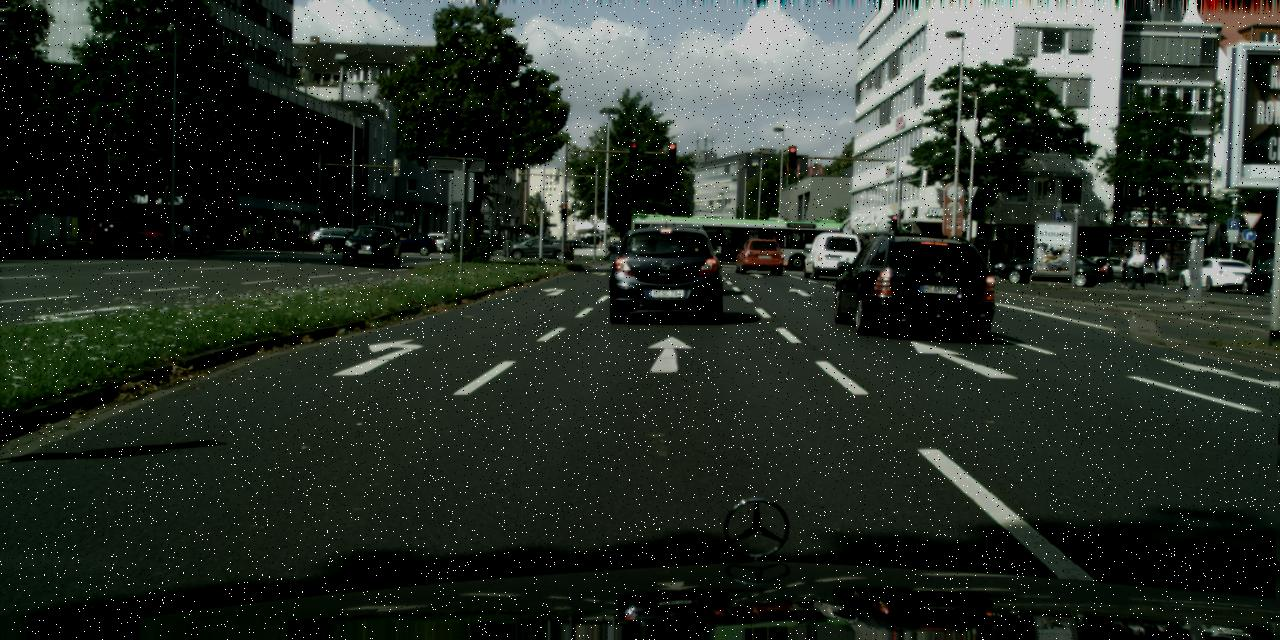ped: (1128, 249, 1144, 288), (198, 219, 211, 252), (1118, 255, 1130, 288), (1155, 254, 1167, 284), (290, 223, 299, 246)
